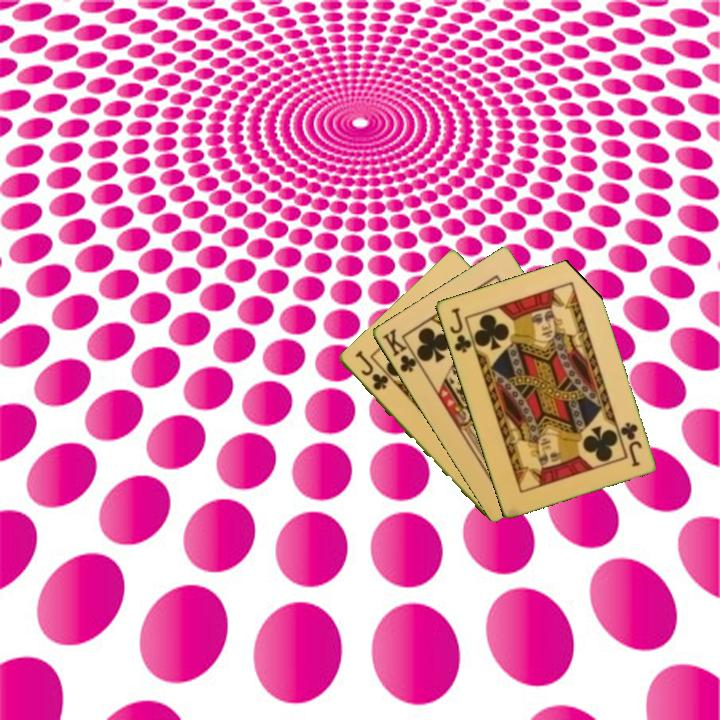Jc: (351, 347, 391, 393), (446, 304, 474, 356), (616, 418, 644, 470)
Kc: (378, 325, 424, 375)
